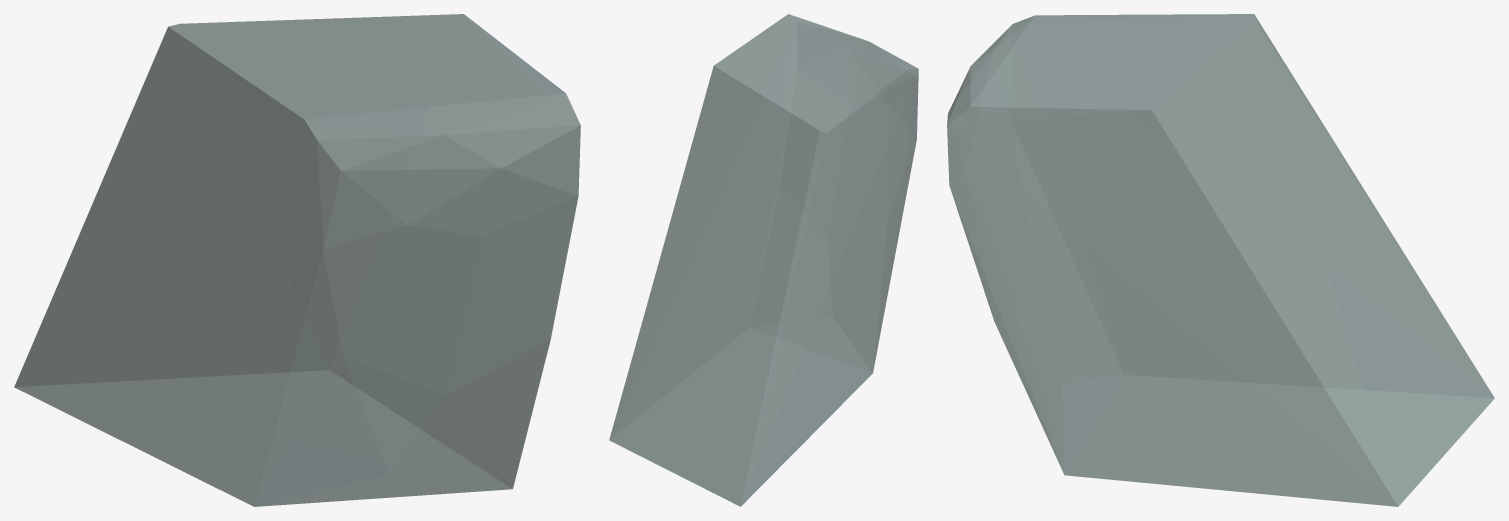
3 views of the same model, side by side, from view 1: azimuth 30°, elevation 25°; view 2: azimuth 150°, elevation 25°; view 3: azimuth 270°, elevation 25° (orthographic). The views are drawn at different scales.
Parts seen in each view (by area): view 1: Shape_IndexedFaceSet.010_Shape_IndexedFaceSet.5912; view 2: Shape_IndexedFaceSet.010_Shape_IndexedFaceSet.5912; view 3: Shape_IndexedFaceSet.010_Shape_IndexedFaceSet.5912.
Boxes of the visible parts, x1=… form: Shape_IndexedFaceSet.010_Shape_IndexedFaceSet.5912: x1=14, y1=14, x2=580, y2=506; Shape_IndexedFaceSet.010_Shape_IndexedFaceSet.5912: x1=609, y1=14, x2=918, y2=506; Shape_IndexedFaceSet.010_Shape_IndexedFaceSet.5912: x1=947, y1=14, x2=1494, y2=506.
Bounding box in the file's own units: 0.2087 × 0.3615 × 0.4571.
